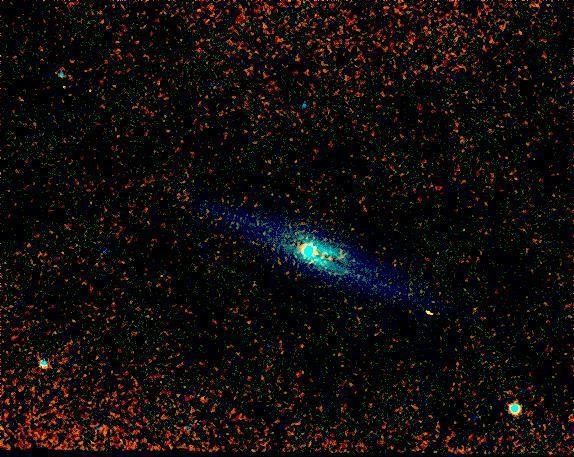star: (316, 241, 346, 271)
